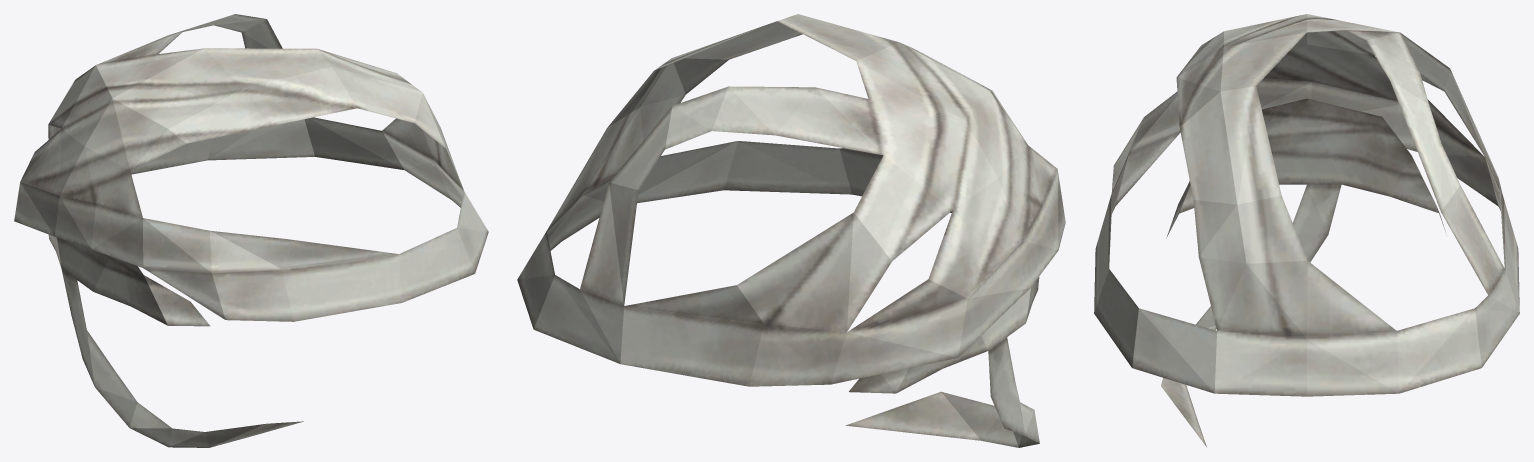
The model's file is Sheep_mummyHead.obj.
3 renders of one model, left to right at view 1: azimuth 30°, elevation 25°; view 2: azimuth 150°, elevation 25°; view 3: azimuth 270°, elevation 25°, orthographic. The views are drawn at different scales.
Parts seen in each view (by area): view 1: Sheep_mummyHead_tri; view 2: Sheep_mummyHead_tri; view 3: Sheep_mummyHead_tri.
Boxes of the visible parts, x1,y1,x2,y2 form: Sheep_mummyHead_tri: (14, 14, 488, 447); Sheep_mummyHead_tri: (517, 14, 1065, 447); Sheep_mummyHead_tri: (1094, 14, 1519, 446).
Bounding box in the file's own units: 0.2931 × 0.25 × 0.2498.
1 material, 1 textured.
